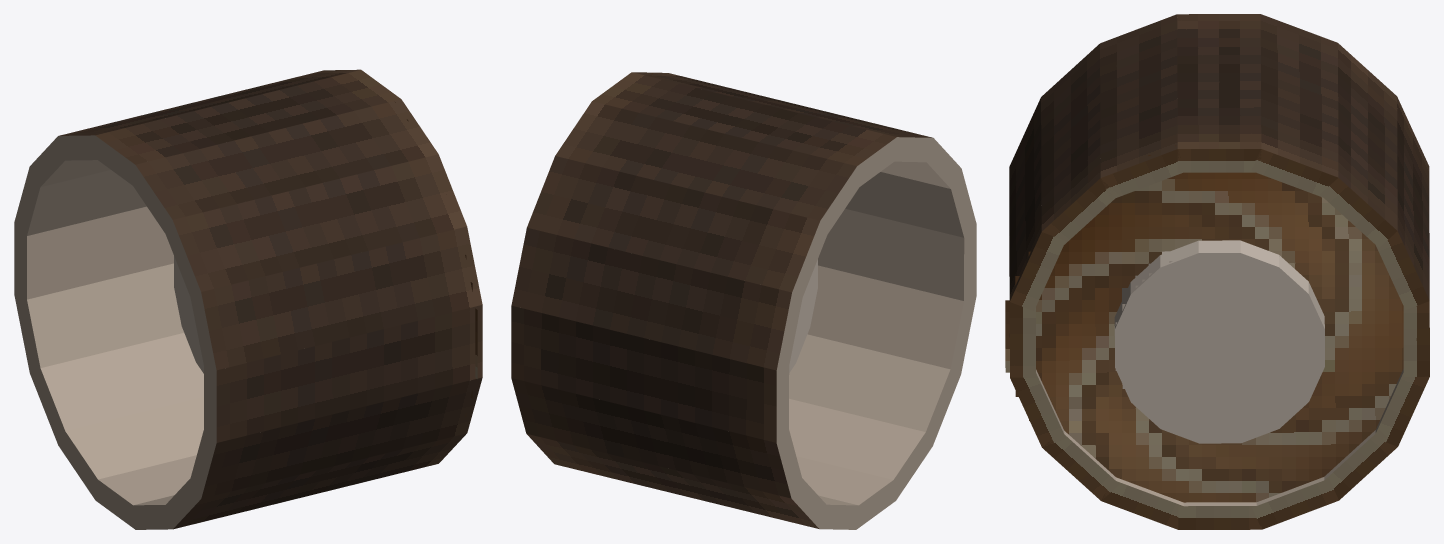
File: oppy_wheel.obj
The picture shows the model from 3 angles, left to right: view 1: azimuth 30°, elevation 25°; view 2: azimuth 150°, elevation 25°; view 3: azimuth 270°, elevation 25°; orthographic projection. The views are drawn at different scales.
Visible parts, largest first — view 1: hexadecagon; view 2: hexadecagon; view 3: hexadecagon, cube.
Boxes of the visible parts, x1,y1,x2,y2 form: hexadecagon: (14,69,482,529); hexadecagon: (511,72,976,529); hexadecagon: (1009,14,1429,529); cube: (1005,145,1403,502).
Size of the model in its own units: 3.26 by 4.01 by 4.05.
2 materials, 2 textured.
